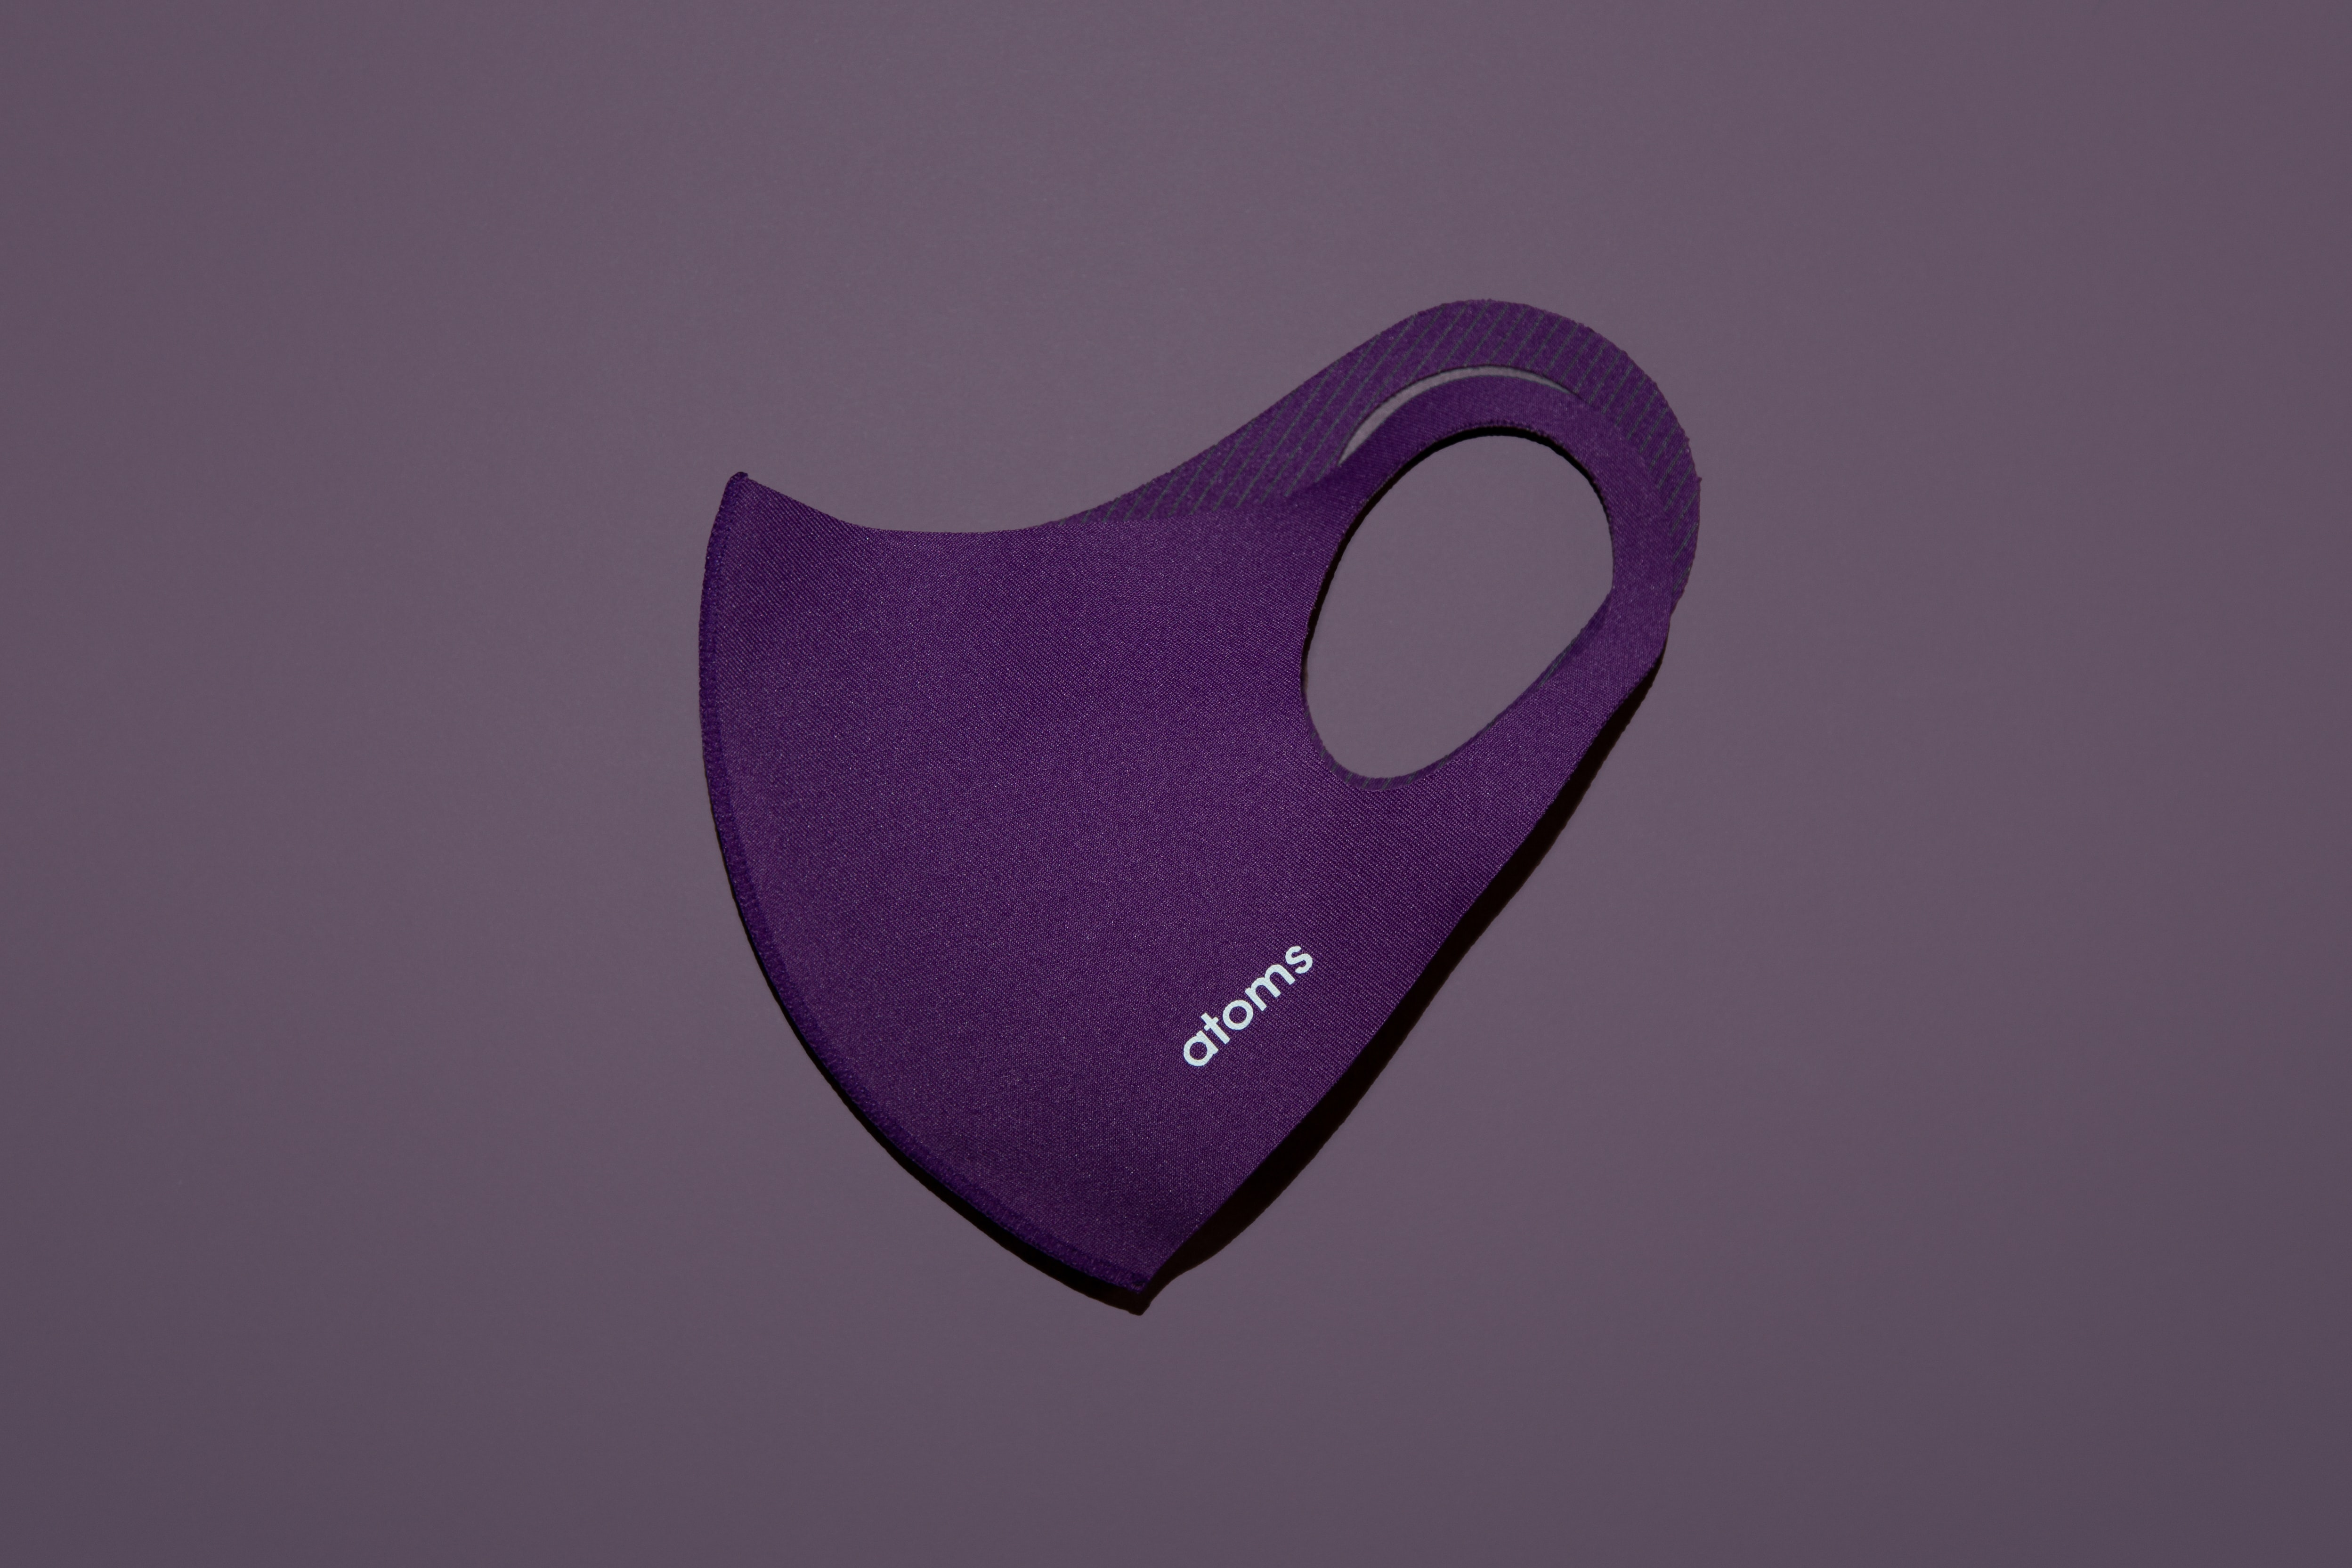mask: (700, 285, 1767, 1330)
